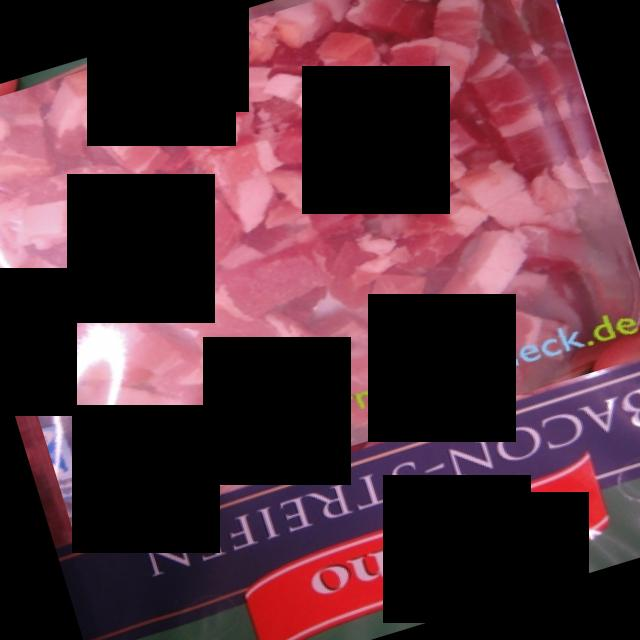bacon: (0, 0, 640, 530)
